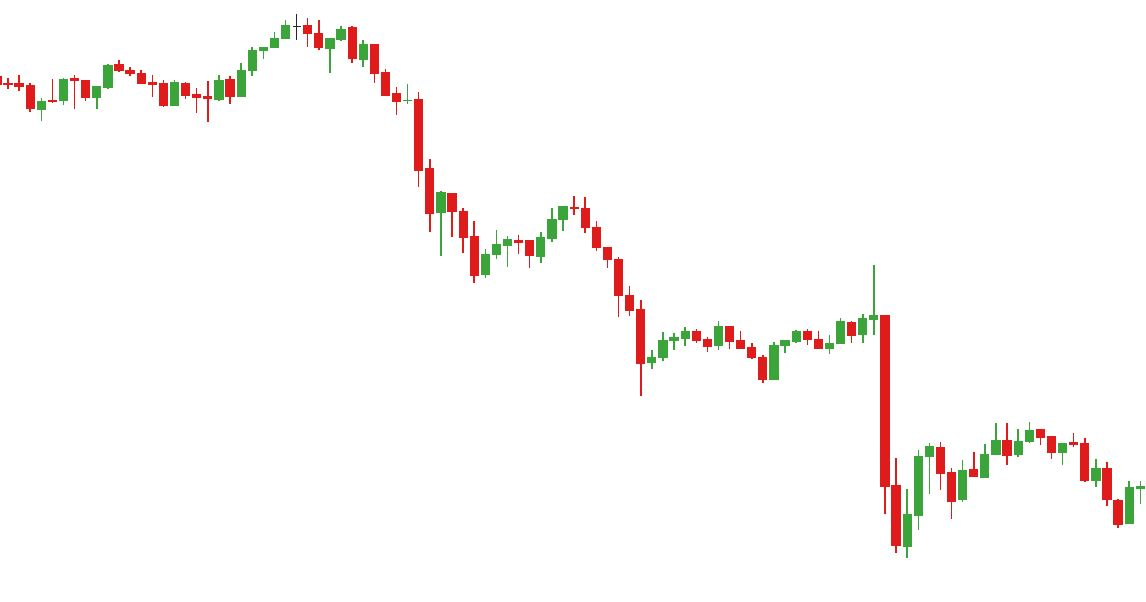sell: (470, 194, 593, 259)
